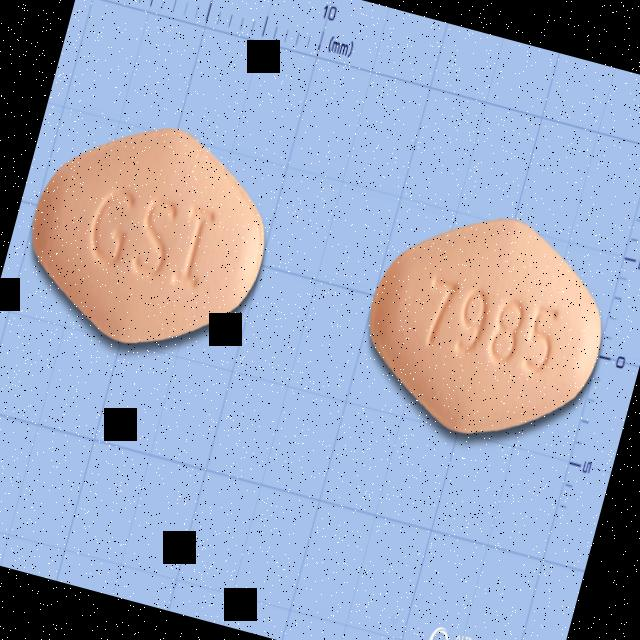Harvoni: (8, 99, 290, 374), (345, 188, 627, 462)
